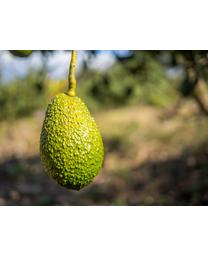avocado: (39, 92, 105, 192)
